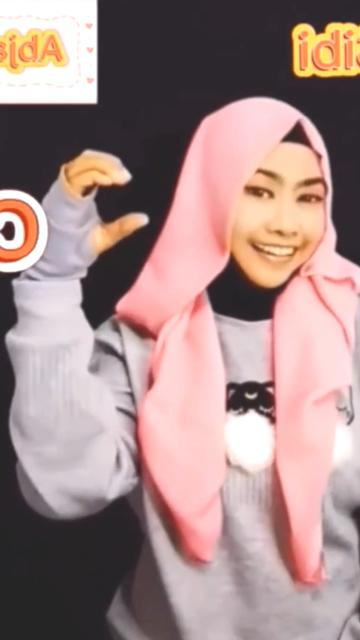C: (46, 150, 152, 272)
